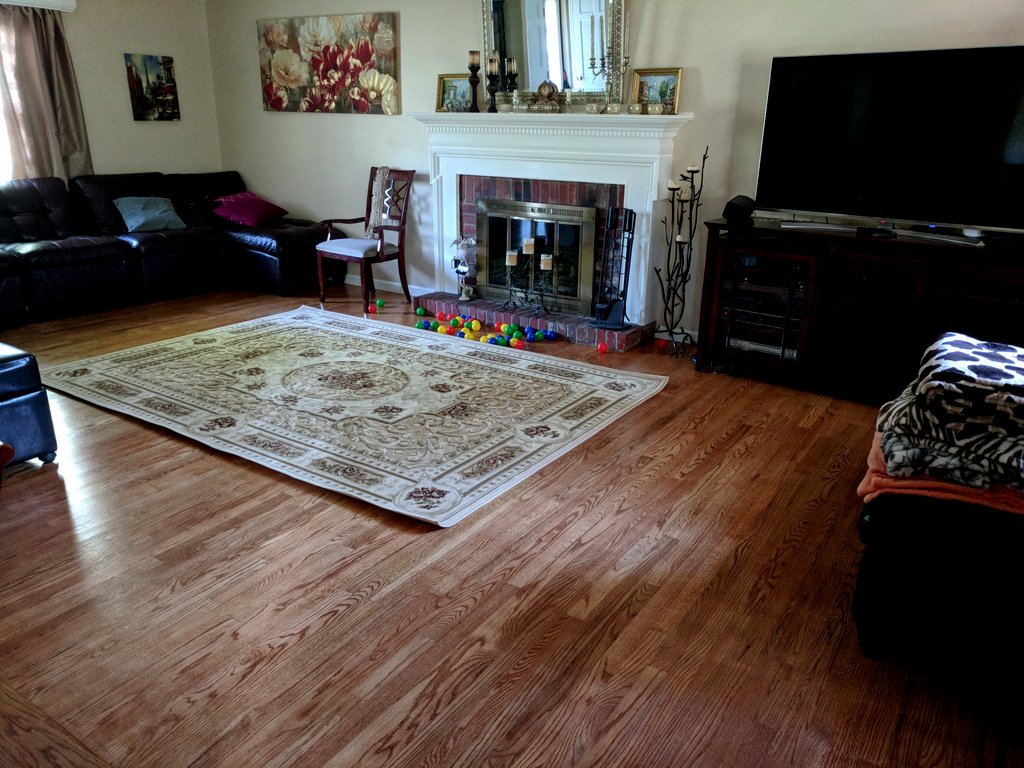ball: (449, 318, 459, 327)
